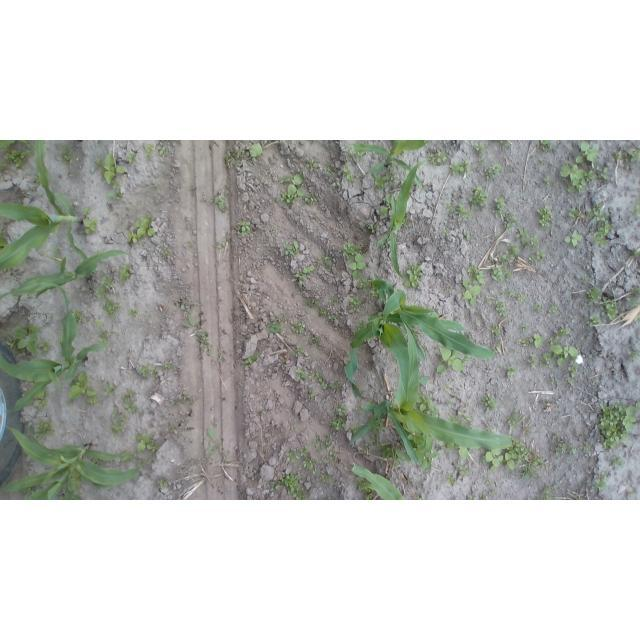Maize: (347, 318, 513, 467), (345, 278, 496, 398), (1, 282, 114, 415), (0, 141, 88, 263), (3, 424, 141, 499), (2, 250, 130, 298), (376, 162, 427, 279), (352, 141, 429, 190), (351, 465, 405, 500)
Weeds: (599, 398, 635, 450), (408, 428, 438, 470), (559, 164, 599, 193), (3, 324, 38, 356), (95, 153, 129, 183), (286, 445, 319, 472), (272, 474, 307, 499), (280, 172, 304, 205), (373, 442, 405, 466), (435, 346, 463, 373), (68, 371, 95, 398), (128, 217, 156, 243), (550, 344, 578, 367), (552, 432, 576, 456), (194, 331, 214, 358), (500, 243, 524, 265), (462, 280, 483, 305), (593, 220, 614, 244), (576, 143, 600, 164), (349, 253, 367, 281), (467, 259, 487, 284), (7, 146, 32, 166), (112, 405, 128, 436), (329, 403, 347, 430), (267, 313, 288, 336), (405, 263, 424, 288), (517, 228, 542, 247), (418, 395, 439, 417), (470, 184, 491, 206), (509, 439, 532, 459), (485, 447, 504, 470), (207, 428, 222, 456), (137, 432, 158, 452), (123, 389, 142, 411), (503, 211, 521, 234), (519, 334, 546, 349), (213, 192, 229, 217), (601, 298, 619, 320), (313, 432, 335, 450), (450, 158, 473, 175), (445, 443, 471, 458), (225, 149, 244, 169), (308, 372, 328, 391), (290, 266, 315, 281), (588, 203, 607, 222), (37, 420, 55, 440), (564, 229, 583, 247), (95, 277, 112, 297), (538, 206, 554, 227), (428, 148, 446, 166), (104, 299, 122, 317), (356, 479, 372, 499), (342, 242, 357, 263), (82, 217, 98, 236), (627, 285, 640, 308), (507, 408, 521, 429), (521, 463, 537, 481), (505, 452, 519, 472), (615, 151, 640, 162), (542, 483, 559, 499), (181, 316, 199, 331), (457, 203, 476, 217), (595, 470, 608, 490), (484, 394, 499, 411), (588, 287, 605, 302), (375, 172, 392, 187), (492, 198, 504, 219), (243, 352, 261, 366), (316, 255, 334, 269), (528, 250, 547, 263), (610, 452, 626, 467), (285, 240, 300, 256), (357, 277, 371, 294), (118, 262, 131, 280), (62, 144, 75, 162), (306, 156, 319, 174), (302, 298, 323, 309), (250, 143, 265, 158), (496, 299, 508, 317), (179, 298, 197, 310), (347, 151, 365, 163), (588, 311, 603, 325), (485, 163, 500, 177), (528, 353, 539, 372), (541, 352, 554, 368), (138, 361, 149, 379), (343, 165, 355, 181), (107, 188, 123, 200), (290, 321, 306, 333), (319, 456, 333, 469), (567, 365, 577, 383), (554, 326, 569, 338), (156, 142, 171, 154), (350, 296, 362, 311), (324, 162, 336, 177), (121, 451, 137, 462), (492, 267, 505, 280), (295, 369, 308, 382), (460, 464, 472, 478), (506, 363, 518, 377), (73, 311, 87, 323), (371, 421, 382, 436), (459, 410, 472, 422), (476, 142, 489, 154), (105, 386, 116, 400), (129, 150, 139, 165), (40, 338, 51, 351), (600, 166, 610, 180), (304, 193, 318, 203), (549, 373, 560, 385), (181, 394, 193, 405), (163, 361, 175, 372), (330, 380, 342, 391), (239, 221, 251, 232), (321, 473, 331, 486), (492, 323, 501, 337), (445, 201, 456, 212), (98, 332, 109, 343), (540, 140, 552, 150), (142, 141, 154, 151), (309, 336, 321, 346), (534, 458, 548, 466), (535, 299, 543, 313), (38, 399, 48, 410), (157, 479, 169, 488), (150, 367, 159, 379), (319, 308, 332, 316), (368, 223, 378, 233), (524, 426, 533, 437), (631, 249, 640, 260), (129, 310, 140, 319), (297, 347, 306, 358), (370, 289, 381, 298), (570, 208, 579, 218), (447, 475, 455, 486), (636, 195, 640, 217), (582, 442, 590, 453), (584, 274, 592, 285), (218, 355, 226, 366), (465, 229, 472, 241), (444, 384, 453, 393), (631, 350, 640, 359), (519, 294, 528, 303), (545, 176, 554, 185), (53, 246, 62, 255), (357, 320, 366, 329), (332, 178, 340, 188), (500, 140, 513, 146), (522, 324, 533, 331), (23, 488, 34, 495), (416, 492, 425, 500), (421, 376, 430, 384), (549, 306, 558, 314), (352, 424, 360, 433), (86, 398, 98, 404), (83, 207, 92, 215), (308, 390, 316, 399), (330, 314, 339, 322), (162, 248, 173, 254), (238, 232, 251, 237), (96, 320, 104, 328), (547, 337, 556, 344), (627, 491, 637, 497), (467, 494, 476, 500), (487, 481, 496, 487), (172, 398, 181, 404), (93, 458, 102, 464), (481, 493, 488, 500), (506, 270, 512, 278), (443, 229, 450, 235), (509, 289, 515, 296), (492, 489, 497, 497), (635, 401, 640, 409), (501, 288, 507, 294), (480, 158, 487, 163), (583, 302, 588, 308), (496, 344, 501, 349), (271, 226, 276, 231)
